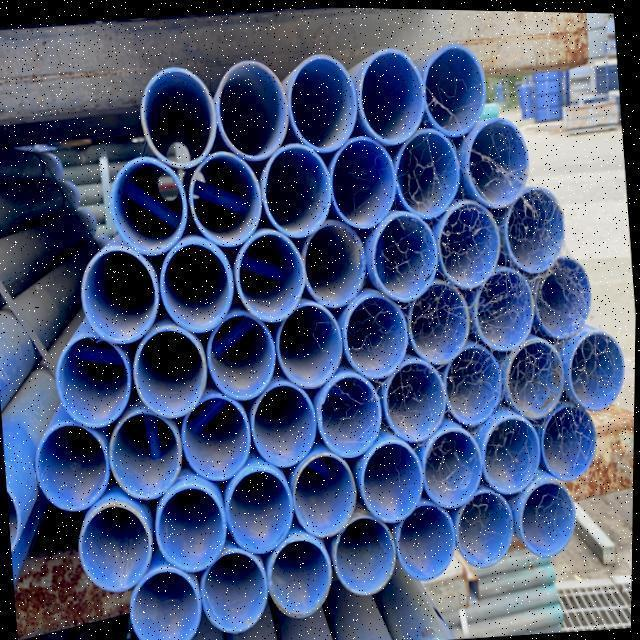pipe: (80, 245, 164, 343), (348, 47, 430, 147), (109, 156, 188, 254), (281, 55, 359, 153), (215, 60, 290, 159), (160, 232, 235, 329), (139, 70, 213, 168), (55, 330, 134, 421), (35, 419, 112, 511), (78, 501, 155, 593), (261, 144, 334, 241), (133, 327, 208, 421), (235, 225, 308, 320), (154, 481, 230, 572), (189, 152, 263, 245), (423, 41, 496, 135), (401, 270, 473, 363), (106, 411, 181, 500), (331, 137, 402, 231), (373, 207, 444, 301), (180, 390, 252, 479), (343, 291, 413, 382), (463, 119, 533, 208), (207, 311, 277, 400), (248, 379, 318, 467), (276, 298, 344, 388), (357, 435, 425, 524), (226, 466, 298, 550), (200, 547, 271, 632), (292, 449, 361, 536), (439, 197, 504, 289), (315, 370, 383, 457), (399, 123, 464, 213), (301, 219, 366, 308), (383, 358, 451, 442), (268, 534, 336, 618), (502, 183, 564, 275), (531, 252, 597, 338), (129, 568, 204, 640), (335, 513, 400, 595), (541, 386, 598, 479), (507, 332, 566, 421), (475, 260, 536, 346), (569, 321, 627, 410), (395, 499, 457, 582), (423, 426, 486, 507), (443, 339, 502, 425), (483, 413, 544, 493), (519, 474, 580, 552), (456, 484, 517, 561)
